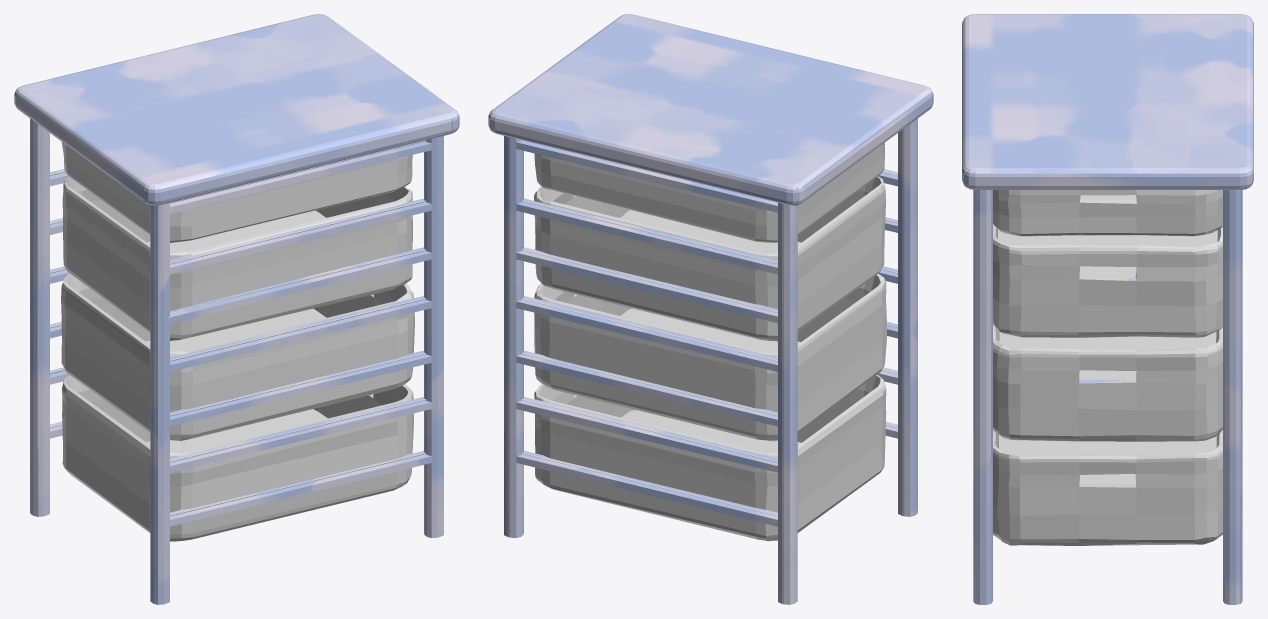
File: Dresser2.fbx
3 renders of one model, left to right at view 1: azimuth 30°, elevation 25°; view 2: azimuth 150°, elevation 25°; view 3: azimuth 270°, elevation 25°, orthographic. The views are drawn at different scales.
Parts seen in each view (by area): view 1: DresserTop, DresserFrame, FinalDrawer.001, FinalDrawer.002, FinalDrawer, FinalDrawer.003; view 2: DresserTop, DresserFrame, FinalDrawer.001, FinalDrawer.002, FinalDrawer, FinalDrawer.003; view 3: DresserTop, FinalDrawer.002, FinalDrawer.001, FinalDrawer, DresserFrame, FinalDrawer.003.
Part boxes in pixels (bbox=[...]): DresserTop: bbox=[14, 14, 459, 205]; DresserFrame: bbox=[30, 118, 443, 604]; FinalDrawer.001: bbox=[61, 273, 414, 440]; FinalDrawer.002: bbox=[62, 375, 413, 541]; FinalDrawer: bbox=[62, 176, 412, 340]; FinalDrawer.003: bbox=[61, 142, 412, 242]; DresserTop: bbox=[488, 14, 933, 205]; DresserFrame: bbox=[504, 118, 917, 604]; FinalDrawer.001: bbox=[534, 273, 886, 441]; FinalDrawer.002: bbox=[534, 375, 886, 541]; FinalDrawer: bbox=[534, 176, 886, 341]; FinalDrawer.003: bbox=[534, 142, 884, 242]; DresserTop: bbox=[962, 14, 1253, 189]; FinalDrawer.002: bbox=[993, 430, 1222, 545]; FinalDrawer.001: bbox=[993, 324, 1222, 441]; FinalDrawer: bbox=[993, 224, 1222, 337]; DresserFrame: bbox=[973, 190, 1242, 604]; FinalDrawer.003: bbox=[993, 190, 1222, 236].
Size of the model in its own units: 2.8 by 3.6 by 2.17.
2 materials, 1 textured.
